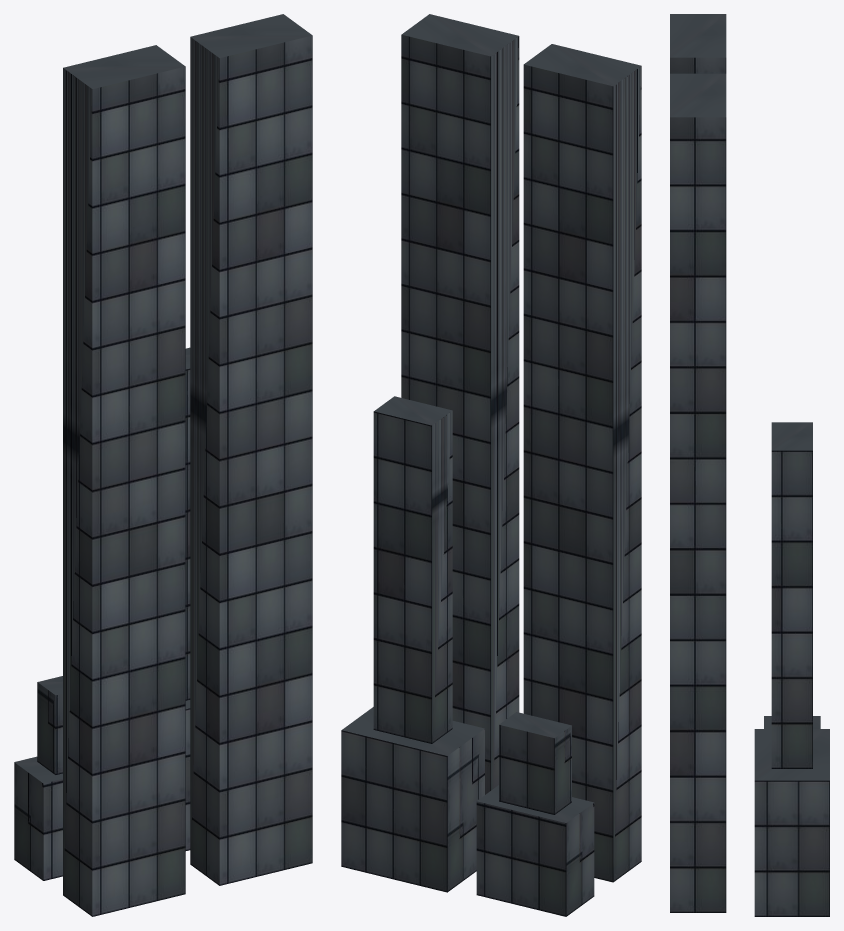
Rendered from block_32.obj.
3 views of the same model, side by side, from view 1: azimuth 30°, elevation 25°; view 2: azimuth 150°, elevation 25°; view 3: azimuth 270°, elevation 25° (orthographic). The views are drawn at different scales.
Parts seen in each view (by area): view 1: b3, b1, b0, b2; view 2: b1, b3, b2, b0; view 3: b3, b2, b1.
Part boxes in pixels (x1=…): b3: x1=190, y1=14, x2=312, y2=885; b1: x1=63, y1=45, x2=185, y2=916; b0: x1=14, y1=676, x2=62, y2=880; b2: x1=185, y1=347, x2=190, y2=850; b1: x1=523, y1=44, x2=641, y2=882; b3: x1=401, y1=14, x2=519, y2=794; b2: x1=341, y1=396, x2=484, y2=892; b0: x1=476, y1=712, x2=594, y2=916; b3: x1=670, y1=73, x2=726, y2=912; b2: x1=754, y1=422, x2=829, y2=916; b1: x1=670, y1=14, x2=726, y2=73.
Bounding box in the file's own units: 4.05 × 14 × 2.55.
